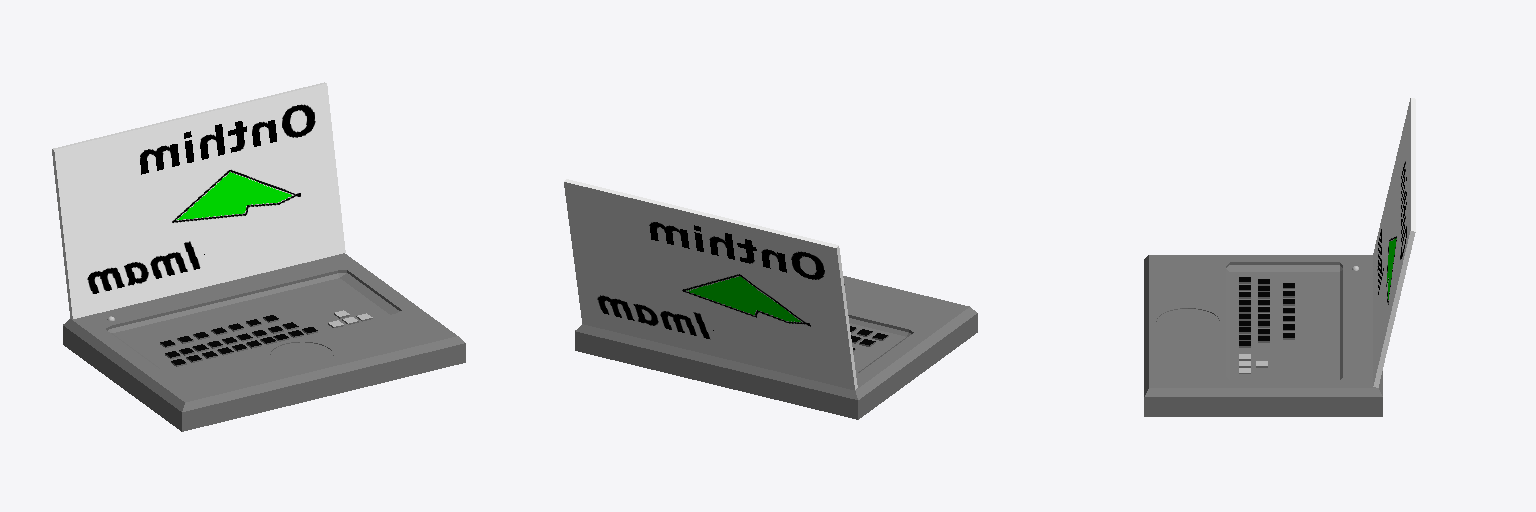
3 views of the same model, side by side, from view 1: azimuth 30°, elevation 25°; view 2: azimuth 150°, elevation 25°; view 3: azimuth 270°, elevation 25° (orthographic).
Visible parts, largest first — view 1: Plane; view 2: Plane; view 3: Plane.
Part boxes in pixels (x1,y1,x2,y2): Plane: (52, 82, 465, 431); Plane: (564, 179, 977, 419); Plane: (1144, 98, 1415, 416).
Bounding box in the file's own units: 5.59 × 3.45 × 4.63.
5 materials, 1 textured.